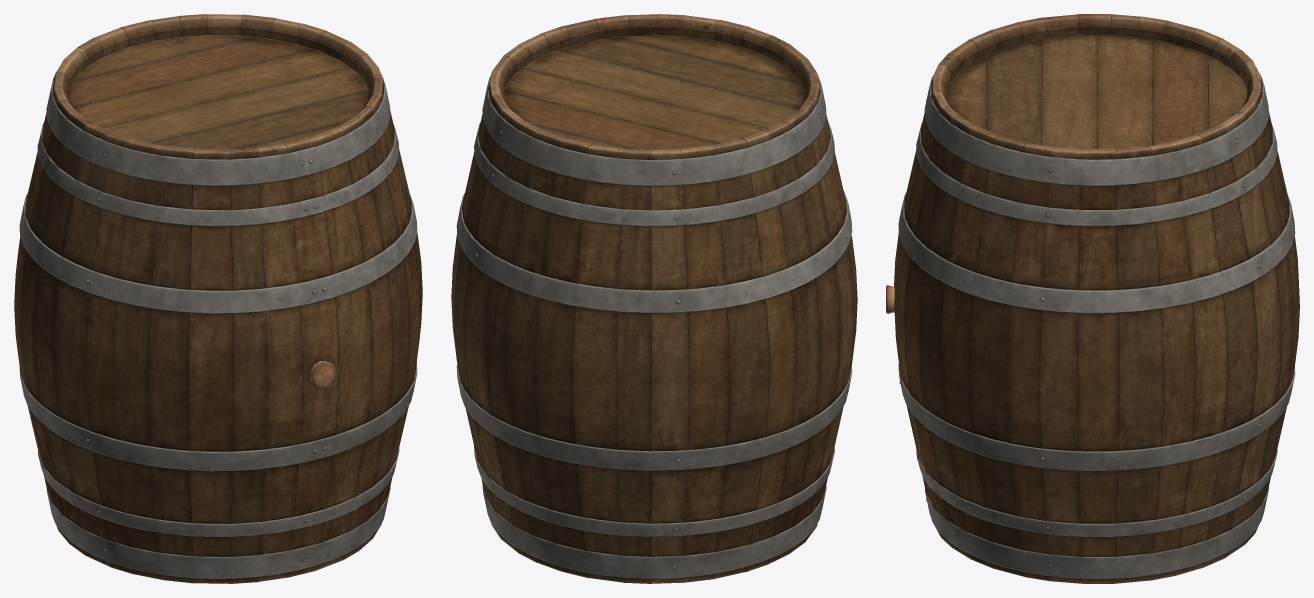
The model's file is barrel.obj.
The picture shows the model from 3 angles, left to right: view 1: azimuth 30°, elevation 25°; view 2: azimuth 150°, elevation 25°; view 3: azimuth 270°, elevation 25°; orthographic projection.
Visible parts, largest first — view 1: wine_barrel_01_Plane.006, wine_barrel_01_Lid_DiameterSmall.012, wine_barrel_01_bung_Cylinder.014; view 2: wine_barrel_01_Plane.006, wine_barrel_01_Lid_DiameterSmall.012; view 3: wine_barrel_01_Plane.006, wine_barrel_01_Lid_DiameterSmall.012.
Part boxes in pixels (x1,y1,x2,y2): wine_barrel_01_Plane.006: (14,14,422,583); wine_barrel_01_Lid_DiameterSmall.012: (67,35,368,149); wine_barrel_01_bung_Cylinder.014: (310,361,336,388); wine_barrel_01_Plane.006: (451,14,857,583); wine_barrel_01_Lid_DiameterSmall.012: (503,35,805,152); wine_barrel_01_Plane.006: (894,14,1299,583); wine_barrel_01_Lid_DiameterSmall.012: (946,35,1247,149).
Size of the model in its own units: 0.7419 by 0.8713 by 0.756.
